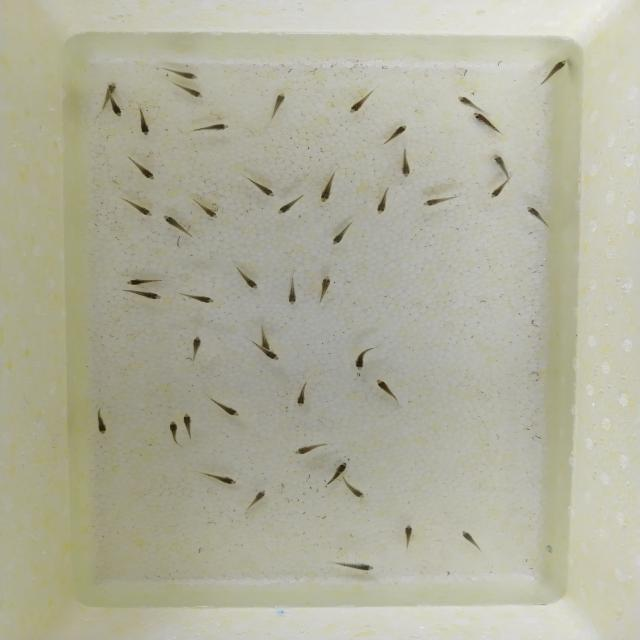fingerling: (129, 159, 162, 184), (250, 178, 282, 200), (176, 292, 226, 306), (135, 113, 159, 142), (206, 472, 246, 489), (341, 557, 379, 574), (416, 194, 459, 209), (386, 119, 414, 142), (452, 91, 481, 113), (521, 203, 551, 224), (316, 176, 337, 205), (345, 95, 375, 115), (288, 442, 325, 458), (330, 222, 352, 248), (196, 202, 224, 222), (395, 154, 419, 177), (340, 483, 372, 500), (92, 414, 115, 437), (254, 328, 276, 352), (284, 279, 301, 310), (470, 108, 496, 128), (164, 210, 184, 236), (212, 402, 244, 418), (127, 200, 158, 216), (123, 289, 168, 300), (352, 346, 369, 375), (277, 195, 299, 217), (121, 275, 163, 286), (249, 484, 270, 506), (165, 68, 201, 80), (546, 58, 566, 79), (194, 122, 232, 133), (489, 178, 508, 200), (164, 419, 183, 441), (293, 383, 309, 409), (399, 522, 415, 548), (238, 273, 262, 290), (459, 530, 483, 547), (375, 190, 389, 219), (330, 460, 348, 481), (492, 151, 508, 174), (373, 377, 396, 393), (101, 78, 120, 97), (188, 335, 204, 356), (175, 86, 205, 97), (270, 92, 288, 110), (261, 347, 282, 362), (319, 274, 331, 300), (183, 411, 193, 435), (110, 103, 122, 117)
